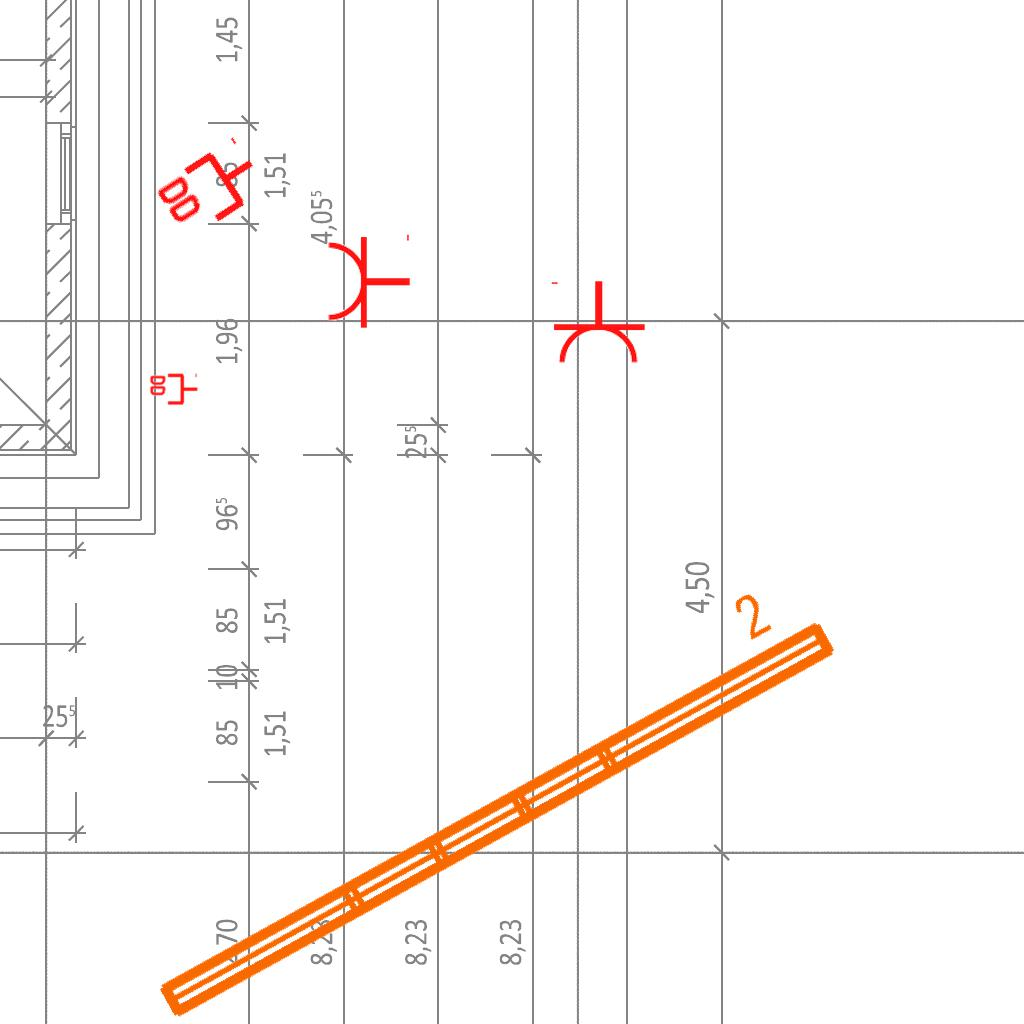Ambulanz_Pendelleuchte_LED: (118, 561, 850, 1024)
Datenanschluss_zweifach: (149, 133, 274, 248), (148, 373, 199, 407)
Schukosteckdose_einfach: (547, 279, 647, 366), (325, 230, 412, 330)
